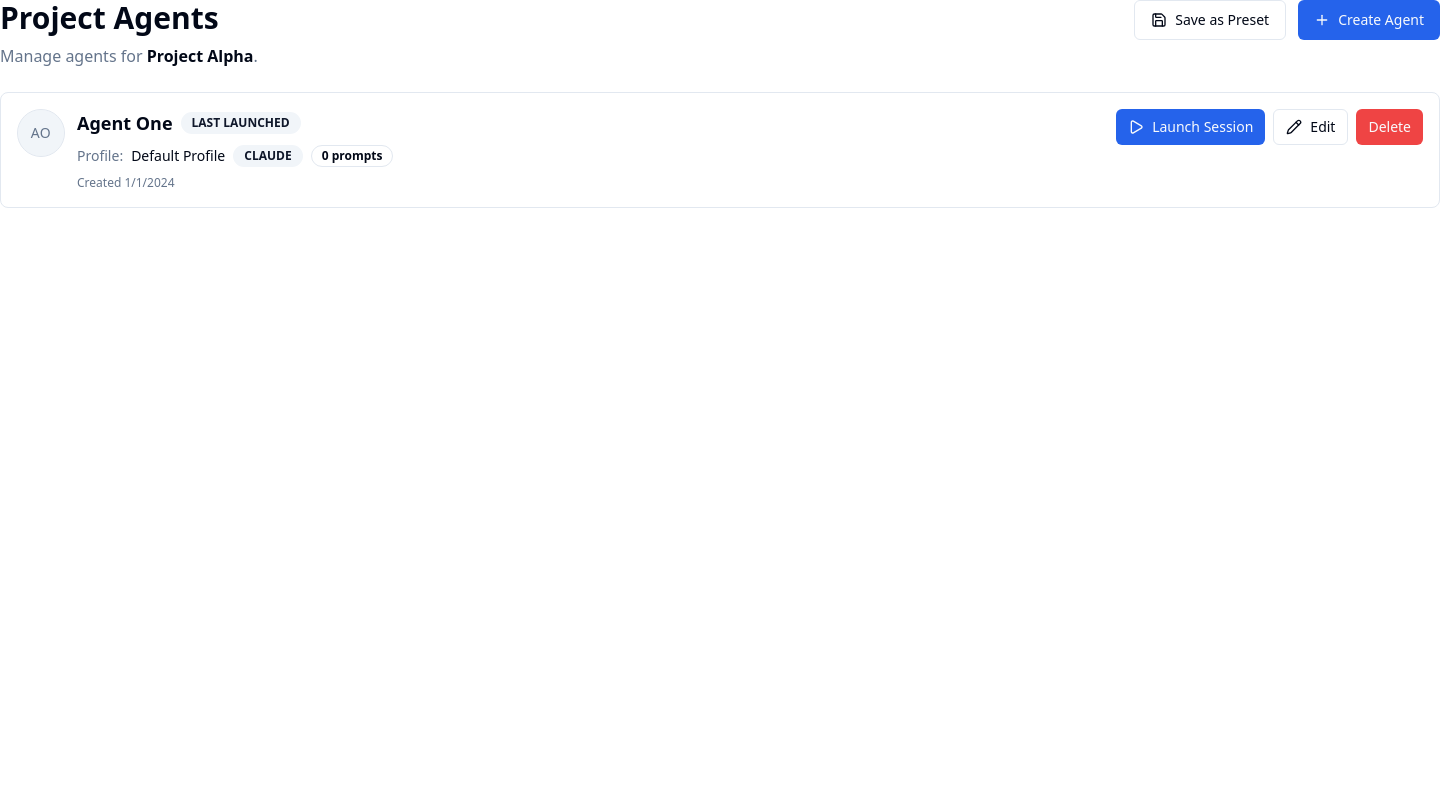
Test case: AgentsPage › renders avatar previews in dialogs and updates with debounced input
Expected: the heading "Agent One" is shown, [77, 109, 173, 137]
Click the button "Create Agent": (1369, 20) [1298, 0, 1439, 40]
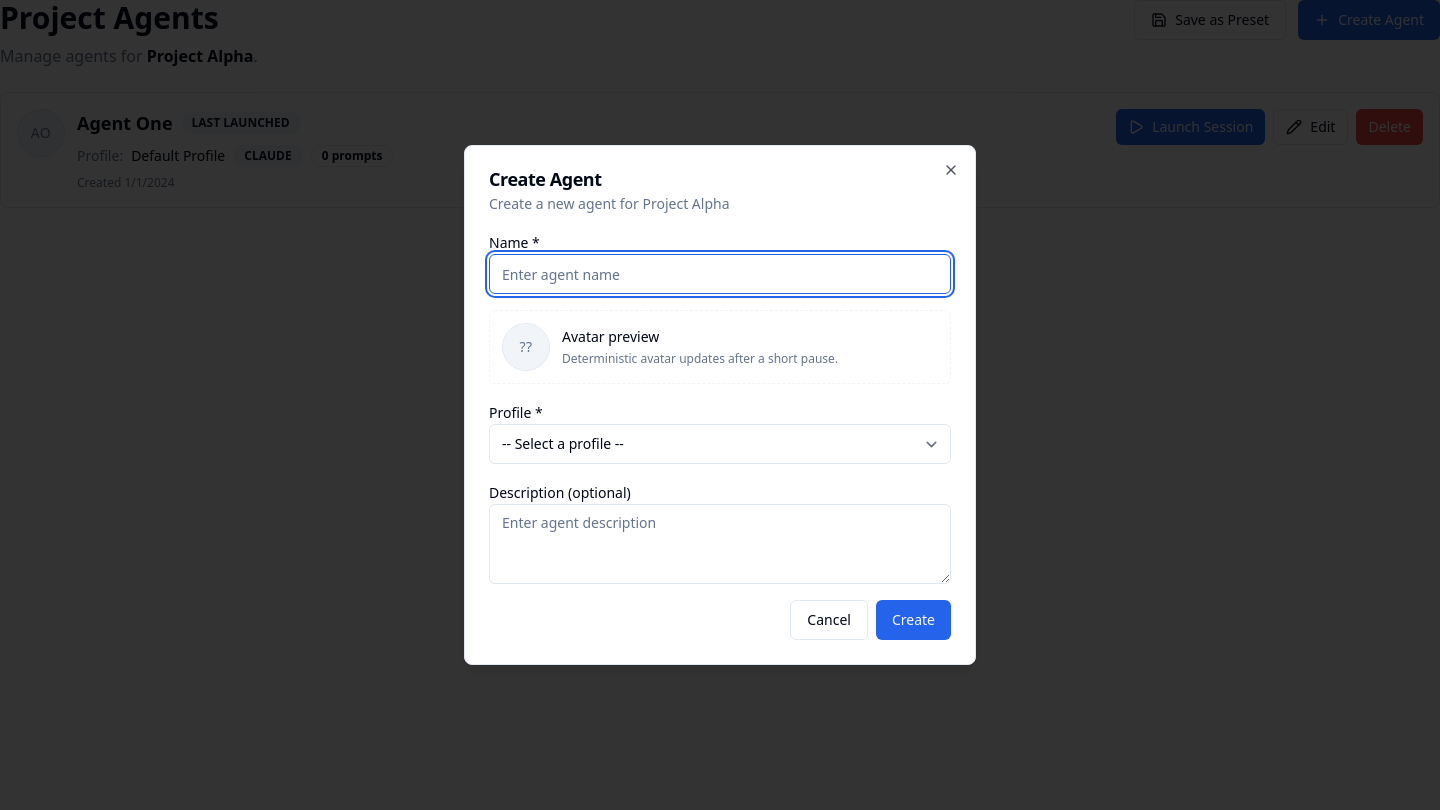
Expected: the text with test id "agent-preview-create-label" reads "Avatar preview", [562, 327, 659, 346]
In the field labelled "Name *": (720, 274) [489, 254, 951, 294], type "Ada Lovelace"
Wait 300 ms
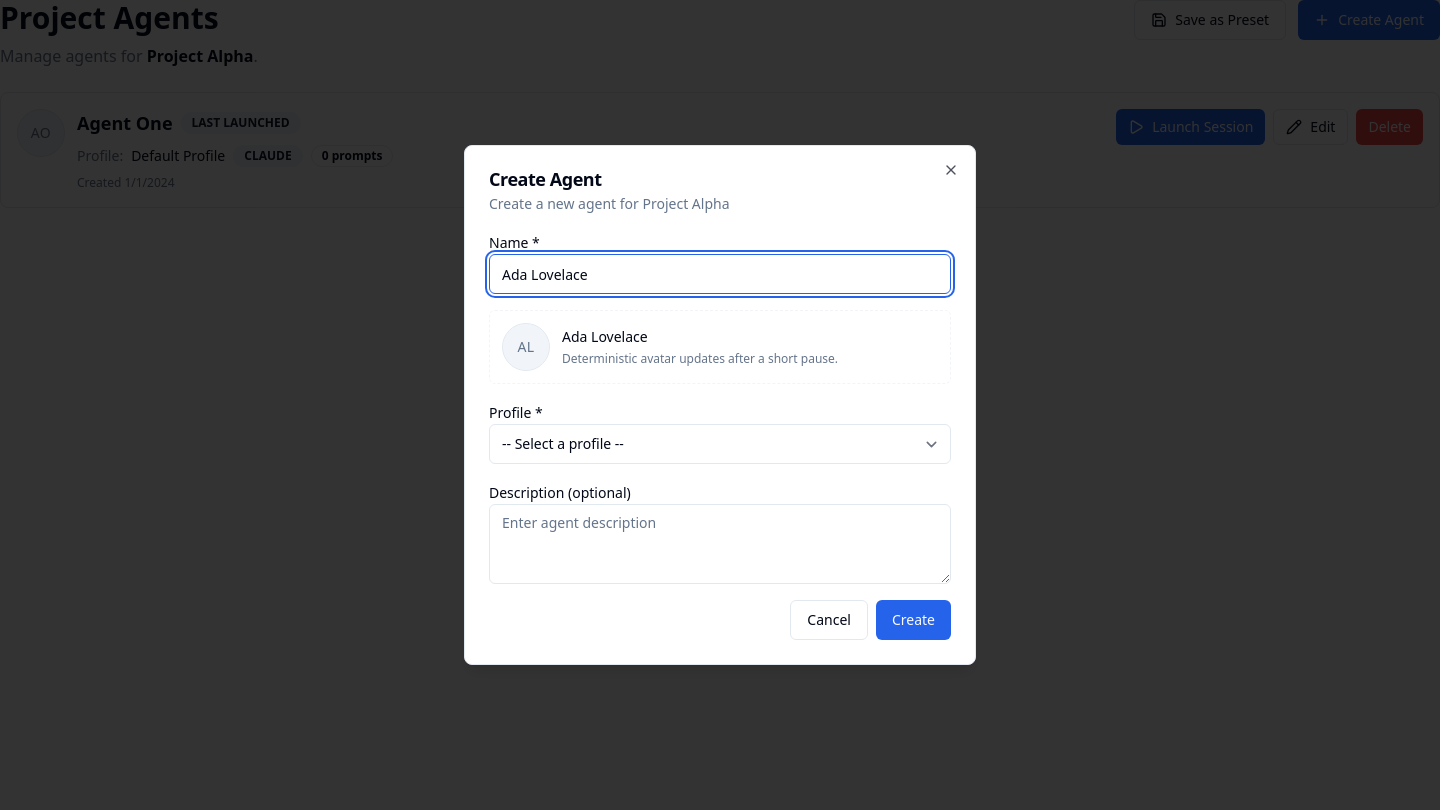
Expected: the text with test id "agent-preview-create-label" reads "Ada Lovelace", [562, 327, 648, 346]
Click the button "Cancel": (829, 620) [790, 600, 868, 640]
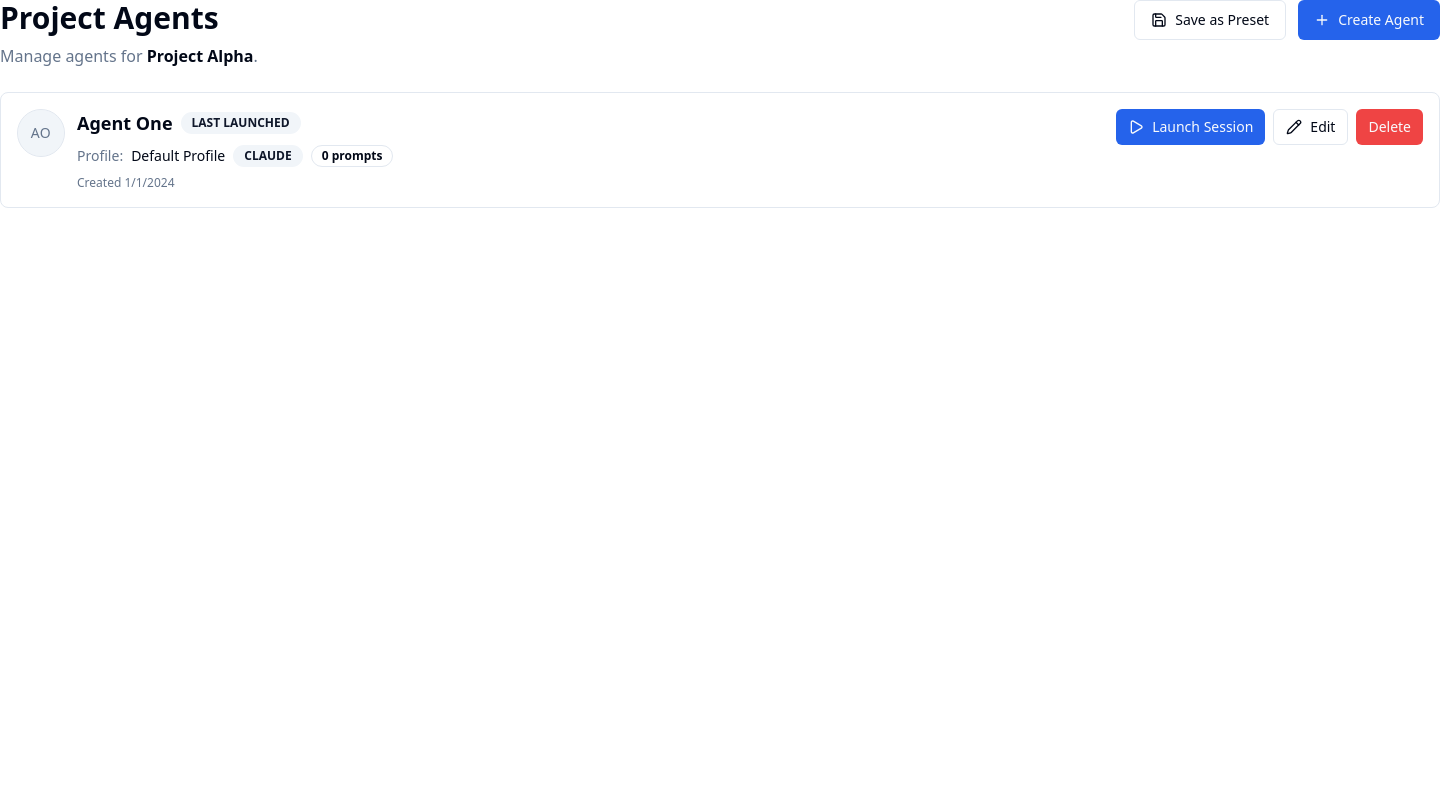
Click the button "Edit": (1311, 127) [1273, 109, 1348, 145]
Wait 300 ms
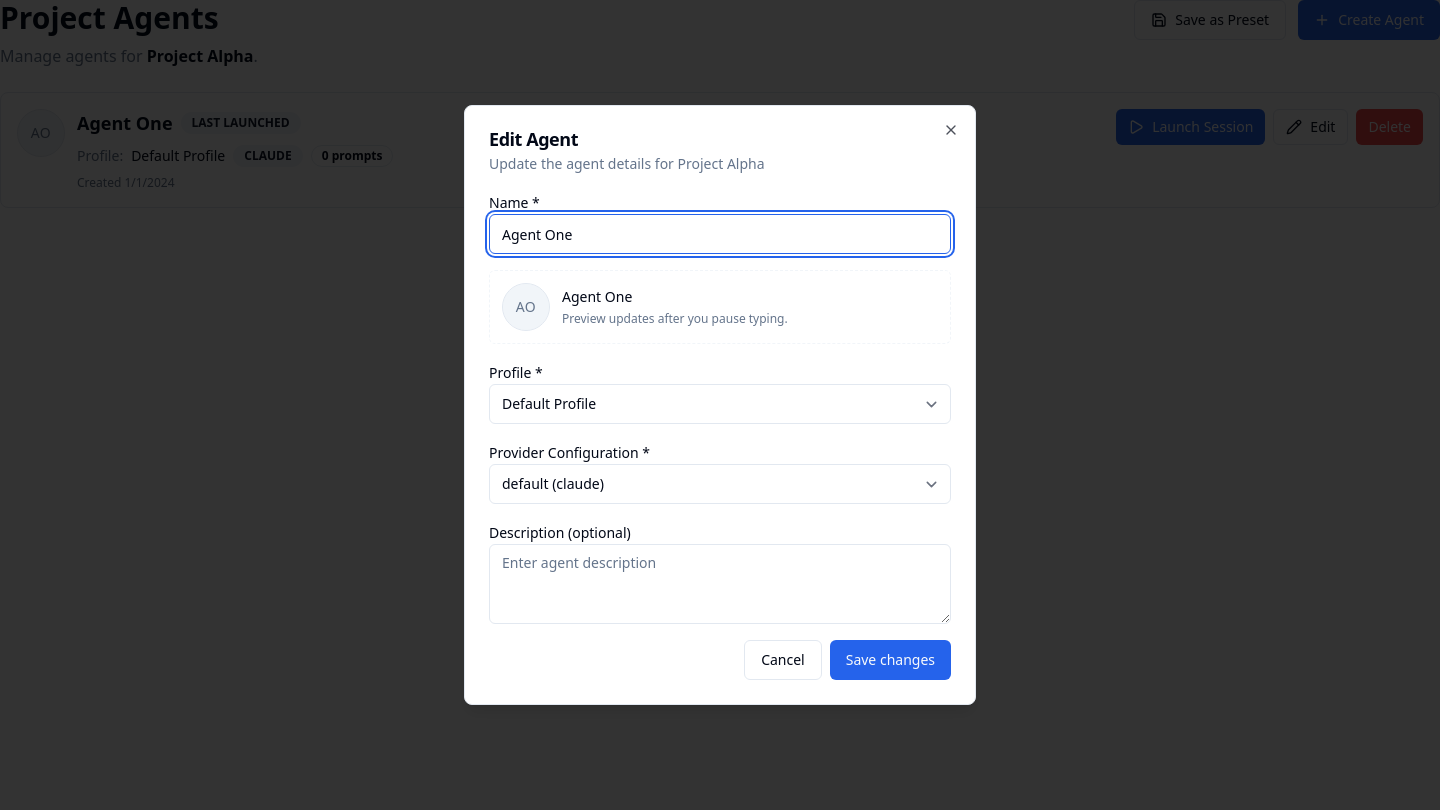
Expected: the text with test id "agent-preview-edit-label" reads "Agent One", [562, 287, 632, 306]
Clear the field labelled "Name *": (720, 234) [489, 214, 951, 254]
Wait 300 ms
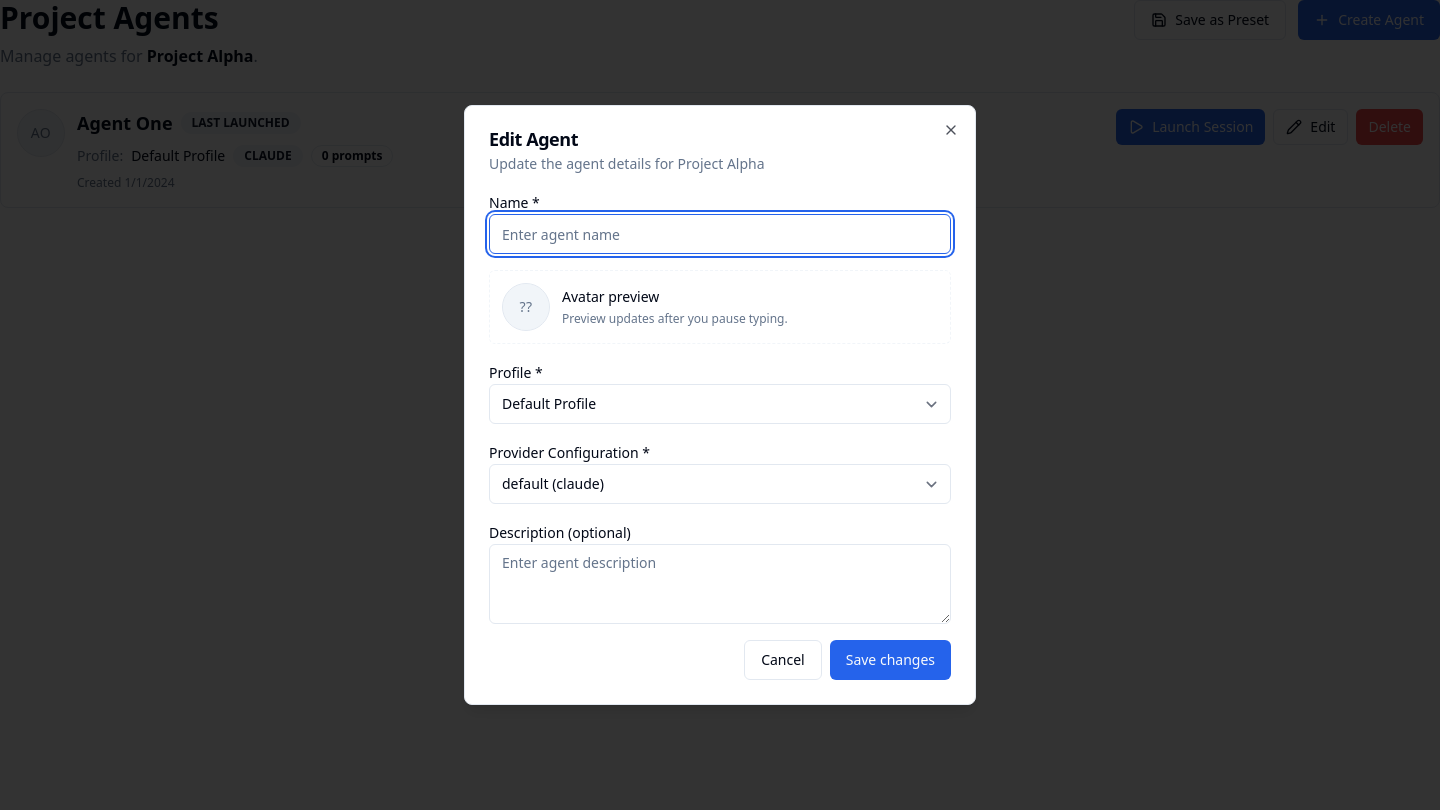
Expected: the text with test id "agent-preview-edit-label" reads "Avatar preview", [562, 287, 659, 306]
